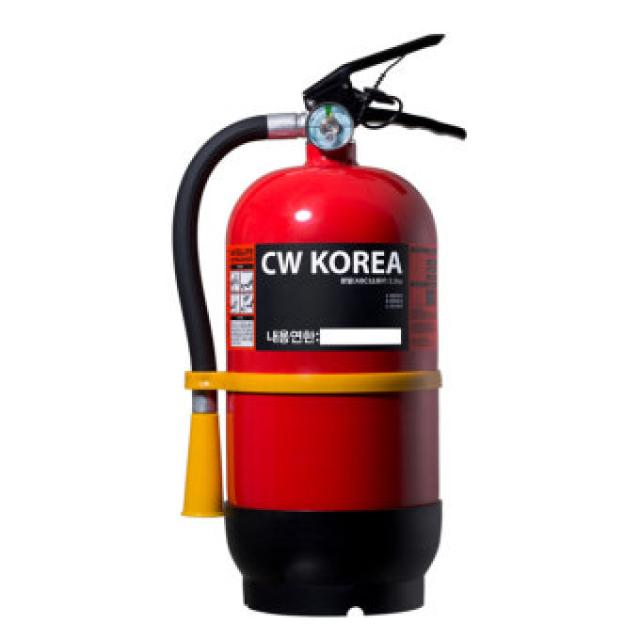pressure gauge: (307, 104, 352, 149)
